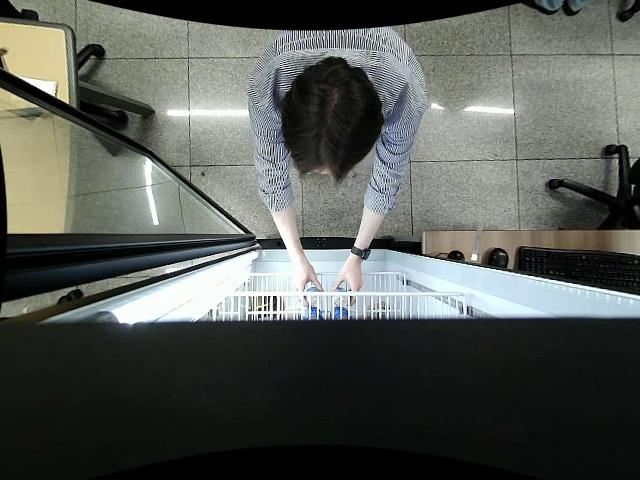00_hand: (331, 265, 363, 304), (293, 268, 324, 307)
